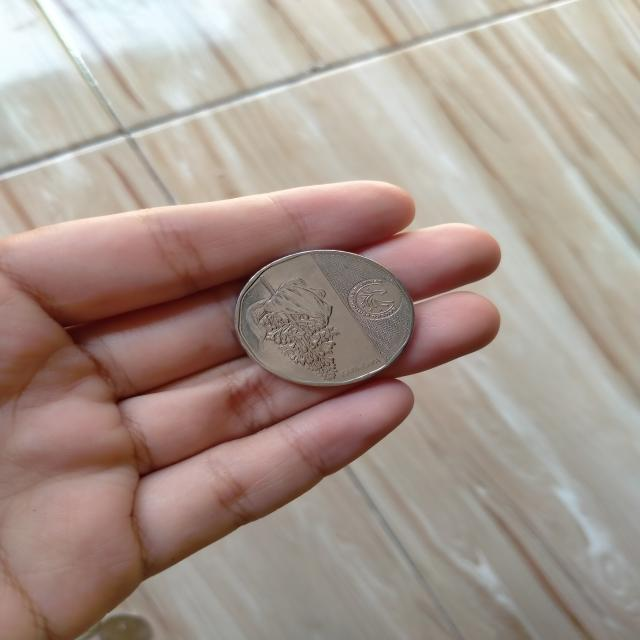10_New_Back: (246, 276, 354, 386)
